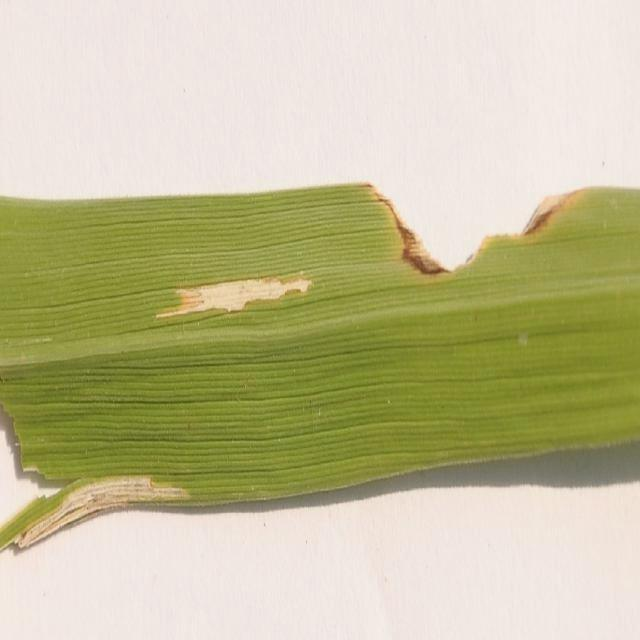bacterial_leaf_blight: (3, 476, 190, 547), (369, 185, 447, 274), (157, 277, 310, 317), (525, 191, 577, 232)
